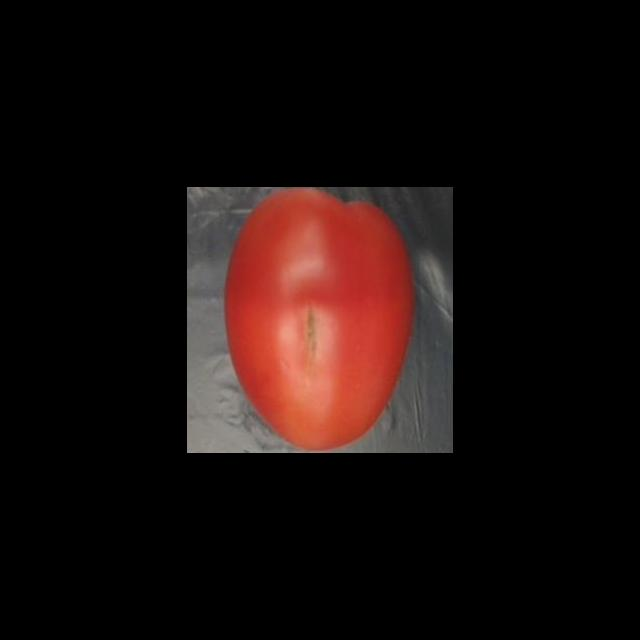tomato: (221, 191, 422, 453)
